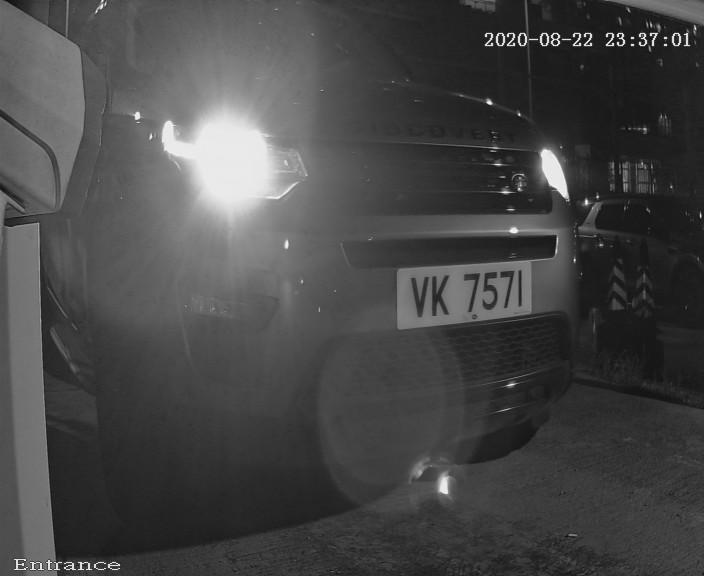Car: (1, 21, 645, 499)
License Plate: (387, 247, 541, 340)
